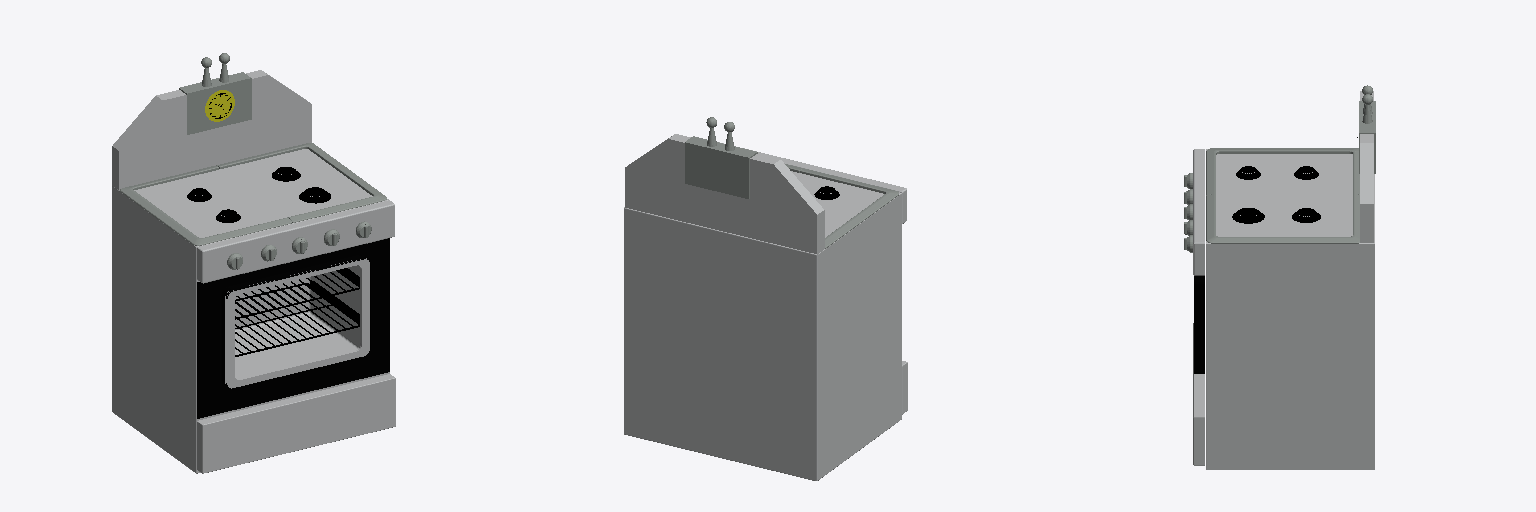
3 renders of one model, left to right at view 1: azimuth 30°, elevation 25°; view 2: azimuth 150°, elevation 25°; view 3: azimuth 270°, elevation 25°, orthographic.
Visible parts, largest first — view 1: polySurface1119; view 2: polySurface1119; view 3: polySurface1119.
Part boxes in pixels (left/top/right/bottom): polySurface1119: left=112, top=53, right=395, bottom=473; polySurface1119: left=624, top=117, right=907, bottom=480; polySurface1119: left=1184, top=85, right=1375, bottom=469.
Bounding box in the file's own units: 3.03 × 5.01 × 2.6.
Materials: 11 (4 with a texture image).